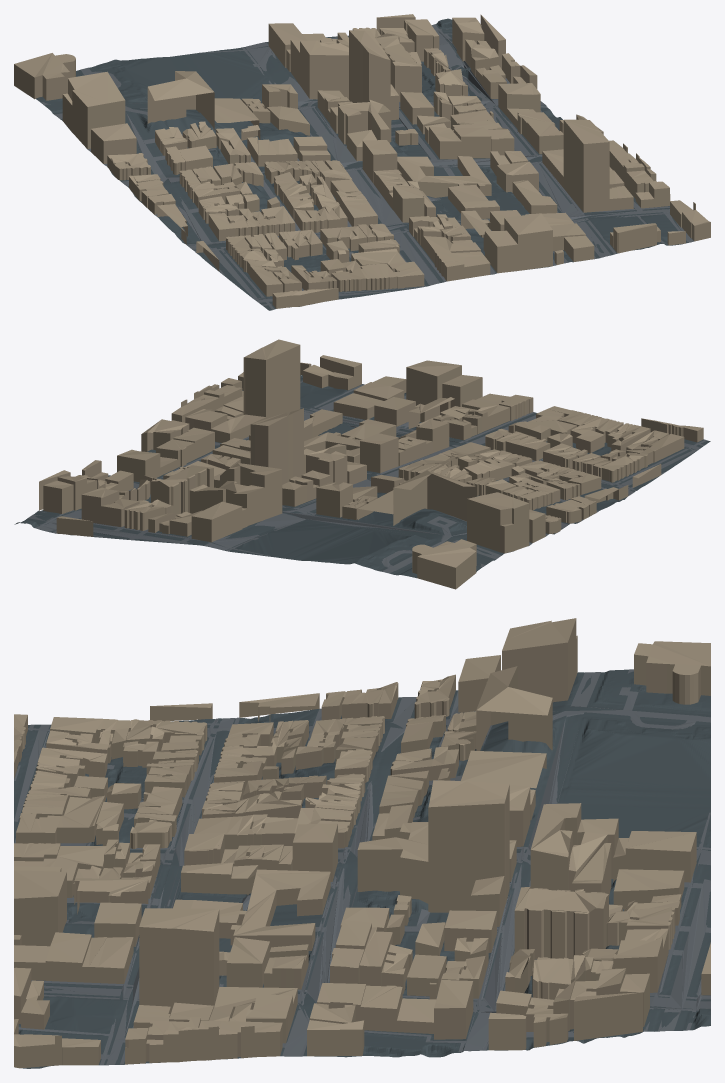
The model's file is epsg26910-1437-10893.lod0.glb.
The picture shows the model from 3 angles, top to bottom: view 1: azimuth 30°, elevation 25°; view 2: azimuth 150°, elevation 25°; view 3: azimuth 270°, elevation 25°; orthographic projection. The views are drawn at different scales.
Visible parts, largest first — view 1: epsg26910-1437-10893-lod0; view 2: epsg26910-1437-10893-lod0; view 3: epsg26910-1437-10893-lod0.
Part boxes in pixels (left/top/right/bottom): epsg26910-1437-10893-lod0: left=14, top=14, right=710, bottom=310; epsg26910-1437-10893-lod0: left=14, top=339, right=710, bottom=589; epsg26910-1437-10893-lod0: left=14, top=618, right=710, bottom=1068.
Bounding box in the file's own units: 384 × 99.85 × 384.
